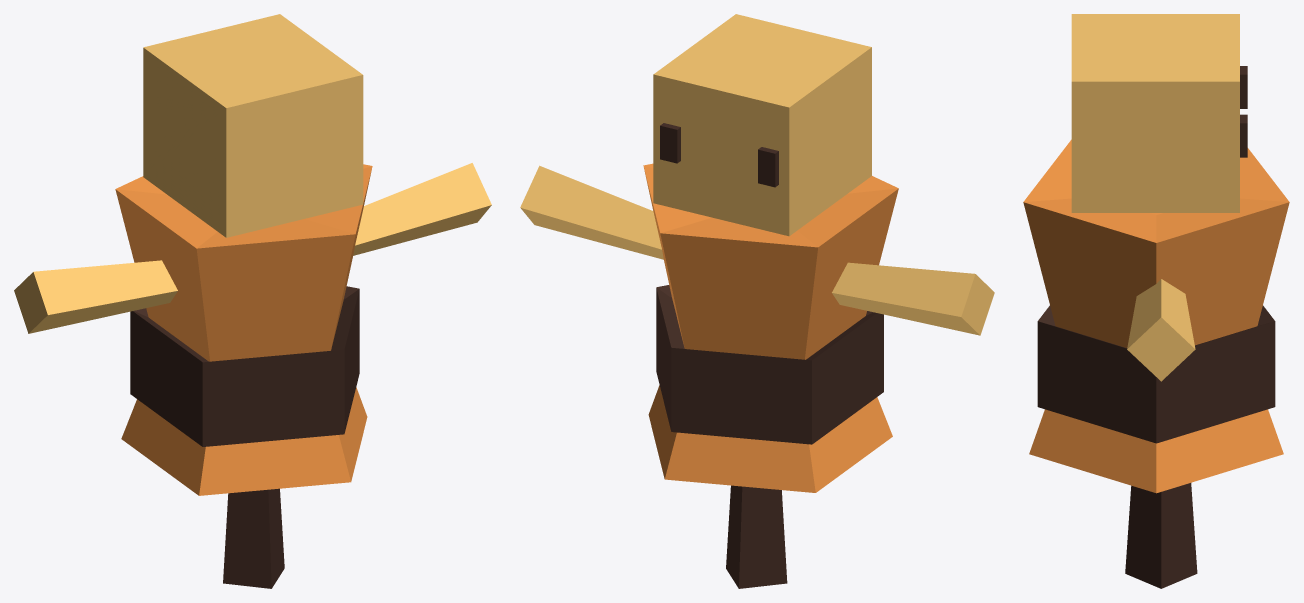
Rendered from puppet.FBX.
The picture shows the model from 3 angles, left to right: view 1: azimuth 30°, elevation 25°; view 2: azimuth 150°, elevation 25°; view 3: azimuth 270°, elevation 25°; orthographic projection.
Visible parts, largest first — view 1: puppet; view 2: puppet; view 3: puppet.
Boxes of the visible parts, x1,y1,x2,y2 form: puppet: [14, 14, 491, 588]; puppet: [520, 14, 994, 588]; puppet: [1023, 14, 1289, 588].
Size of the model in its own units: 126 by 63.79 by 139.
